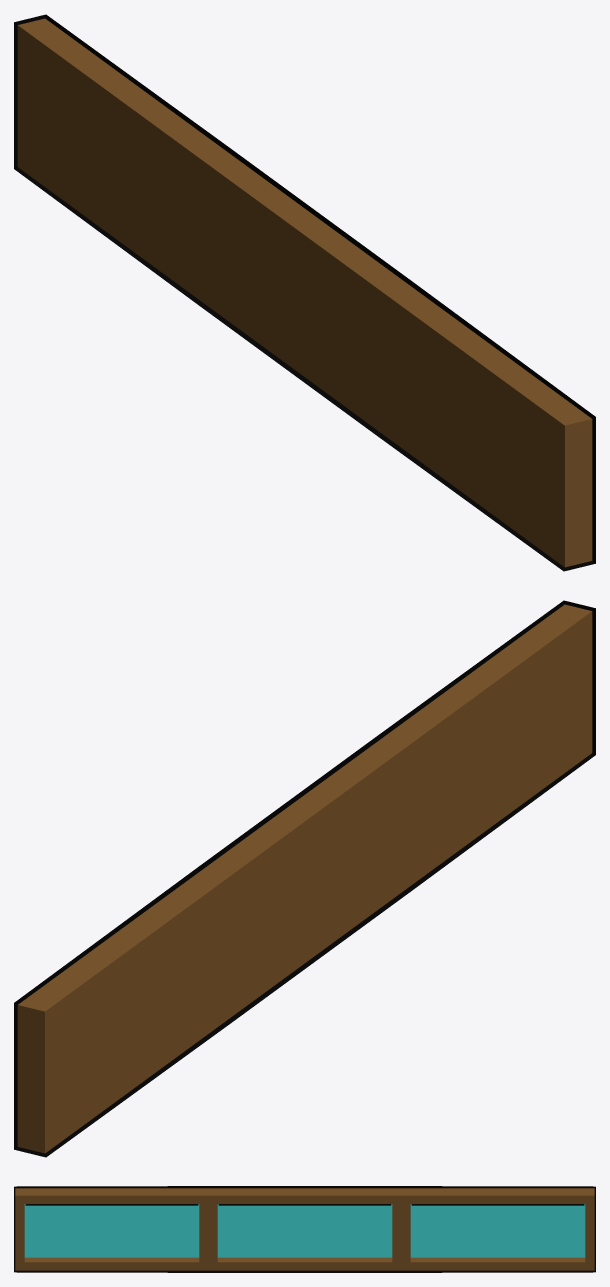
File: window.fbx
3 views of the same model, one above another, from view 1: azimuth 30°, elevation 25°; view 2: azimuth 150°, elevation 25°; view 3: azimuth 270°, elevation 25° (orthographic). The views are drawn at different scales.
Visible parts, largest first — view 1: Cube; view 2: Cube; view 3: Cube.
Boxes of the visible parts, left/top/right/bottom form: Cube: left=14, top=14, right=595, bottom=571; Cube: left=14, top=600, right=595, bottom=1157; Cube: left=14, top=1186, right=595, bottom=1272.
Bounding box in the file's own units: 50.18 × 208 × 1405.
